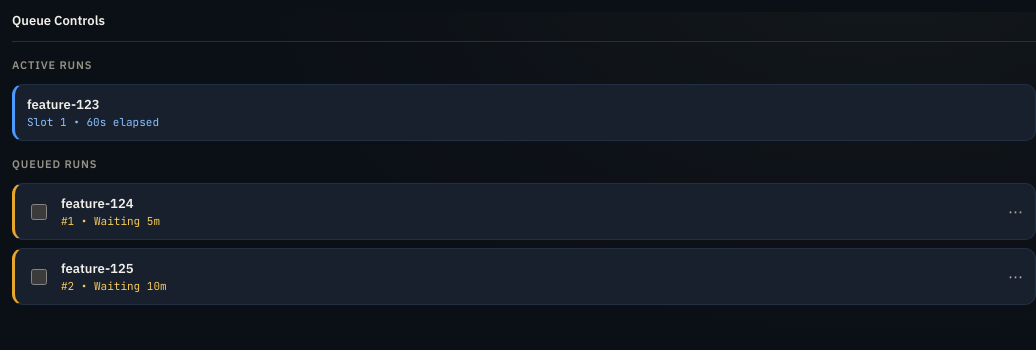
Test: QueueAdvancedControls › Per-Run Actions › shows action buttons on toggle
This screenshot has width=1036, height=350.
What coordinates should you click on to do the following:
click the button named "Toggle controls"
I would click on:
 (1016, 212)
Its box is [1008,202,1023,221].
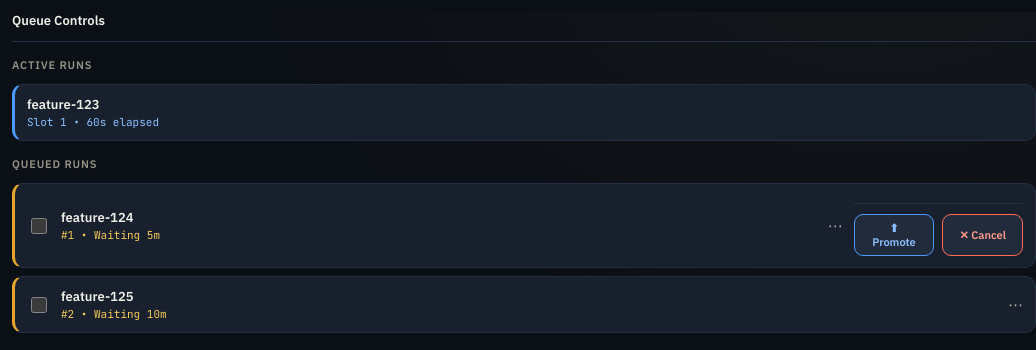
Expected: the button "⬆ Promote" is shown, [854,214,934,256]
